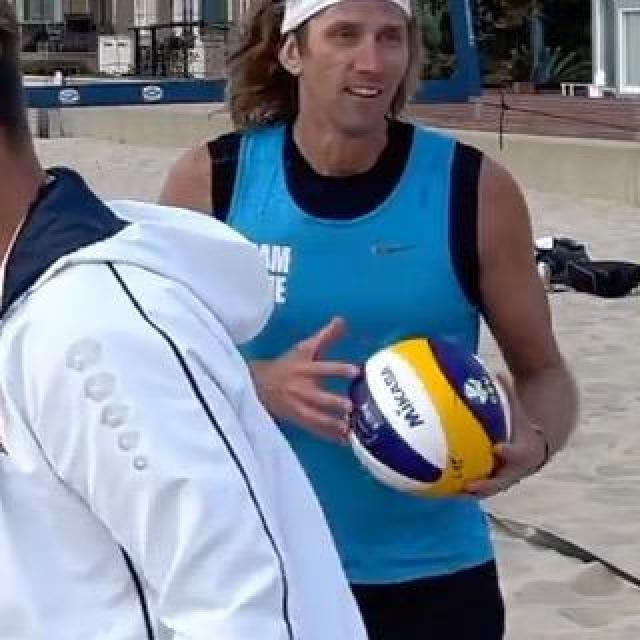volleyball: (345, 334, 513, 500)
